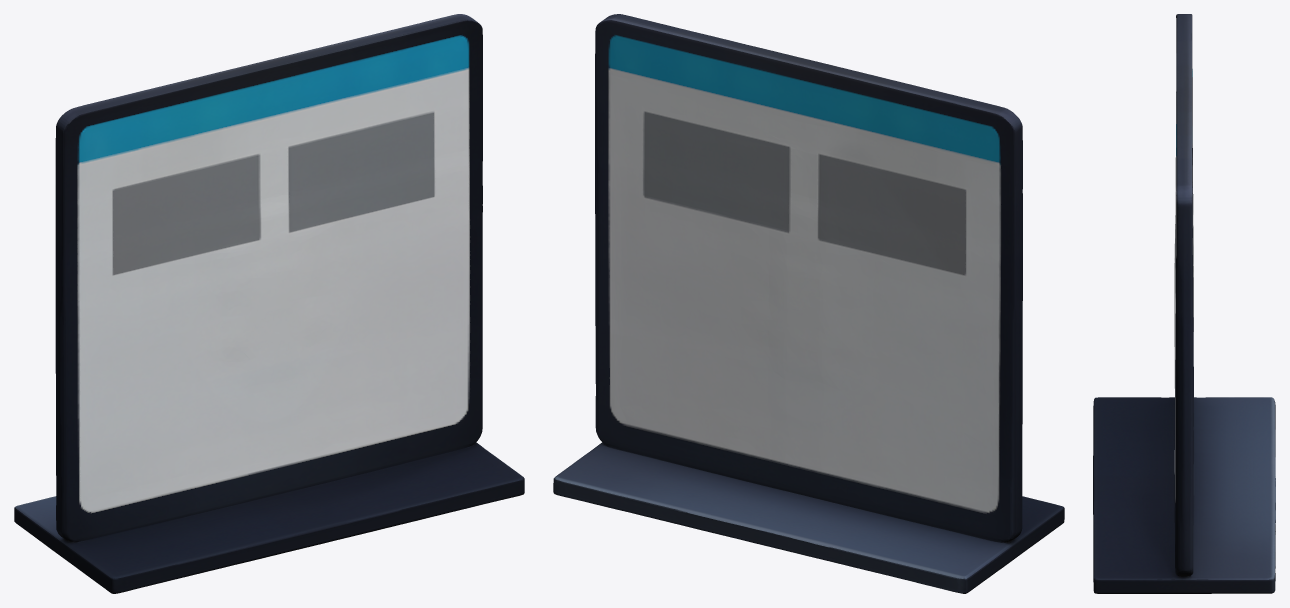
Rendered from tela-3d-2.glb.
The picture shows the model from 3 angles, left to right: view 1: azimuth 30°, elevation 25°; view 2: azimuth 150°, elevation 25°; view 3: azimuth 270°, elevation 25°; orthographic projection. The views are drawn at different scales.
Visible parts, largest first — view 1: world; view 2: world; view 3: world.
Part boxes in pixels (x1,y1,x2,y2): world: (14,14,524,593); world: (553,14,1064,593); world: (1093,14,1275,593).
Bounding box in the file's own units: 0.9968 × 1 × 0.411.
Materials: 1 (1 with a texture image).
